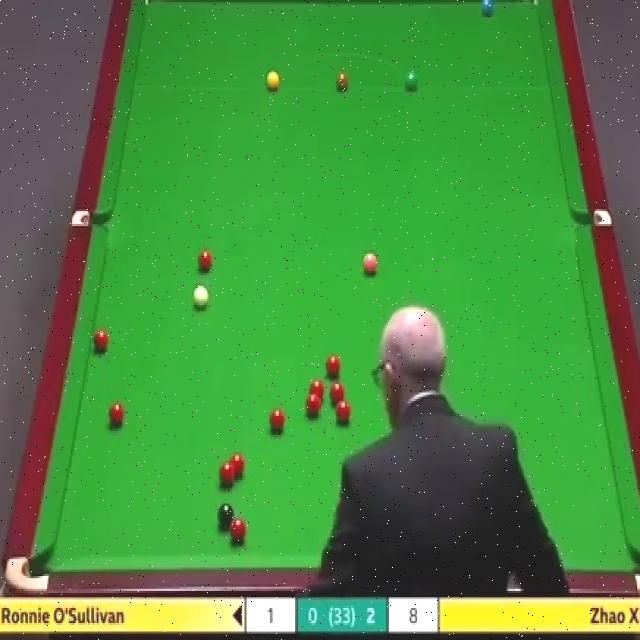black-ball: (217, 503, 234, 528)
blue-ball: (480, 0, 493, 17)
brown-ball: (335, 70, 349, 90)
green-ball: (403, 71, 417, 90)
pink-ball: (362, 254, 378, 277)
red-ball: (219, 463, 238, 489), (336, 397, 352, 427), (109, 400, 126, 426), (323, 354, 342, 377), (93, 329, 109, 356), (229, 516, 246, 541), (306, 394, 323, 418), (269, 405, 284, 431), (308, 378, 325, 400), (229, 453, 245, 476), (330, 381, 345, 404), (197, 252, 213, 270)
white-ball: (193, 286, 208, 309)
yellow-ball: (266, 70, 280, 90)
